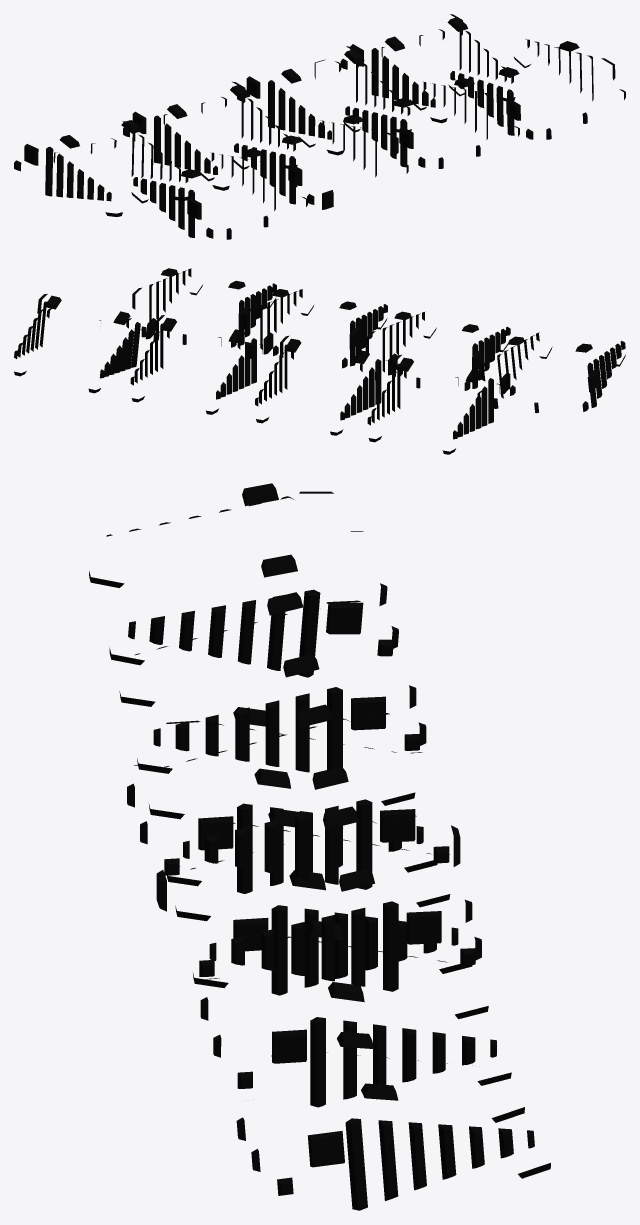
The model's file is prop_static_tan_container_01_03.glb.
The picture shows the model from 3 angles, top to bottom: view 1: azimuth 30°, elevation 25°; view 2: azimuth 150°, elevation 25°; view 3: azimuth 270°, elevation 25°; orthographic projection. The views are drawn at different scales.
Parts seen in each view (by area): view 1: tan_container_01_03_LOD0; view 2: tan_container_01_03_LOD0; view 3: tan_container_01_03_LOD0.
Part boxes in pixels (x1,y1,x2,y2): tan_container_01_03_LOD0: (14, 14, 625, 239); tan_container_01_03_LOD0: (14, 268, 625, 454); tan_container_01_03_LOD0: (89, 483, 550, 1210).
Size of what is drawn, in the model's own units: 12.67 by 2.52 by 4.55.
Materials: 1 (1 with a texture image).
